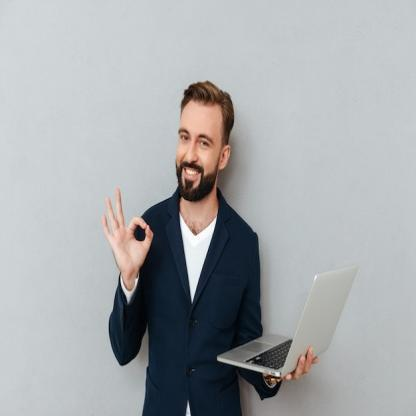ok: (98, 182, 154, 282)
